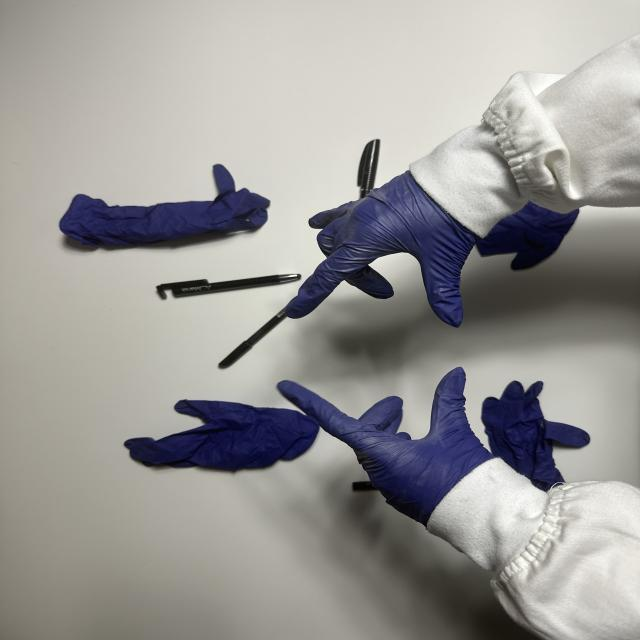gloves_contaminated: (278, 367, 493, 526), (286, 170, 477, 326)
